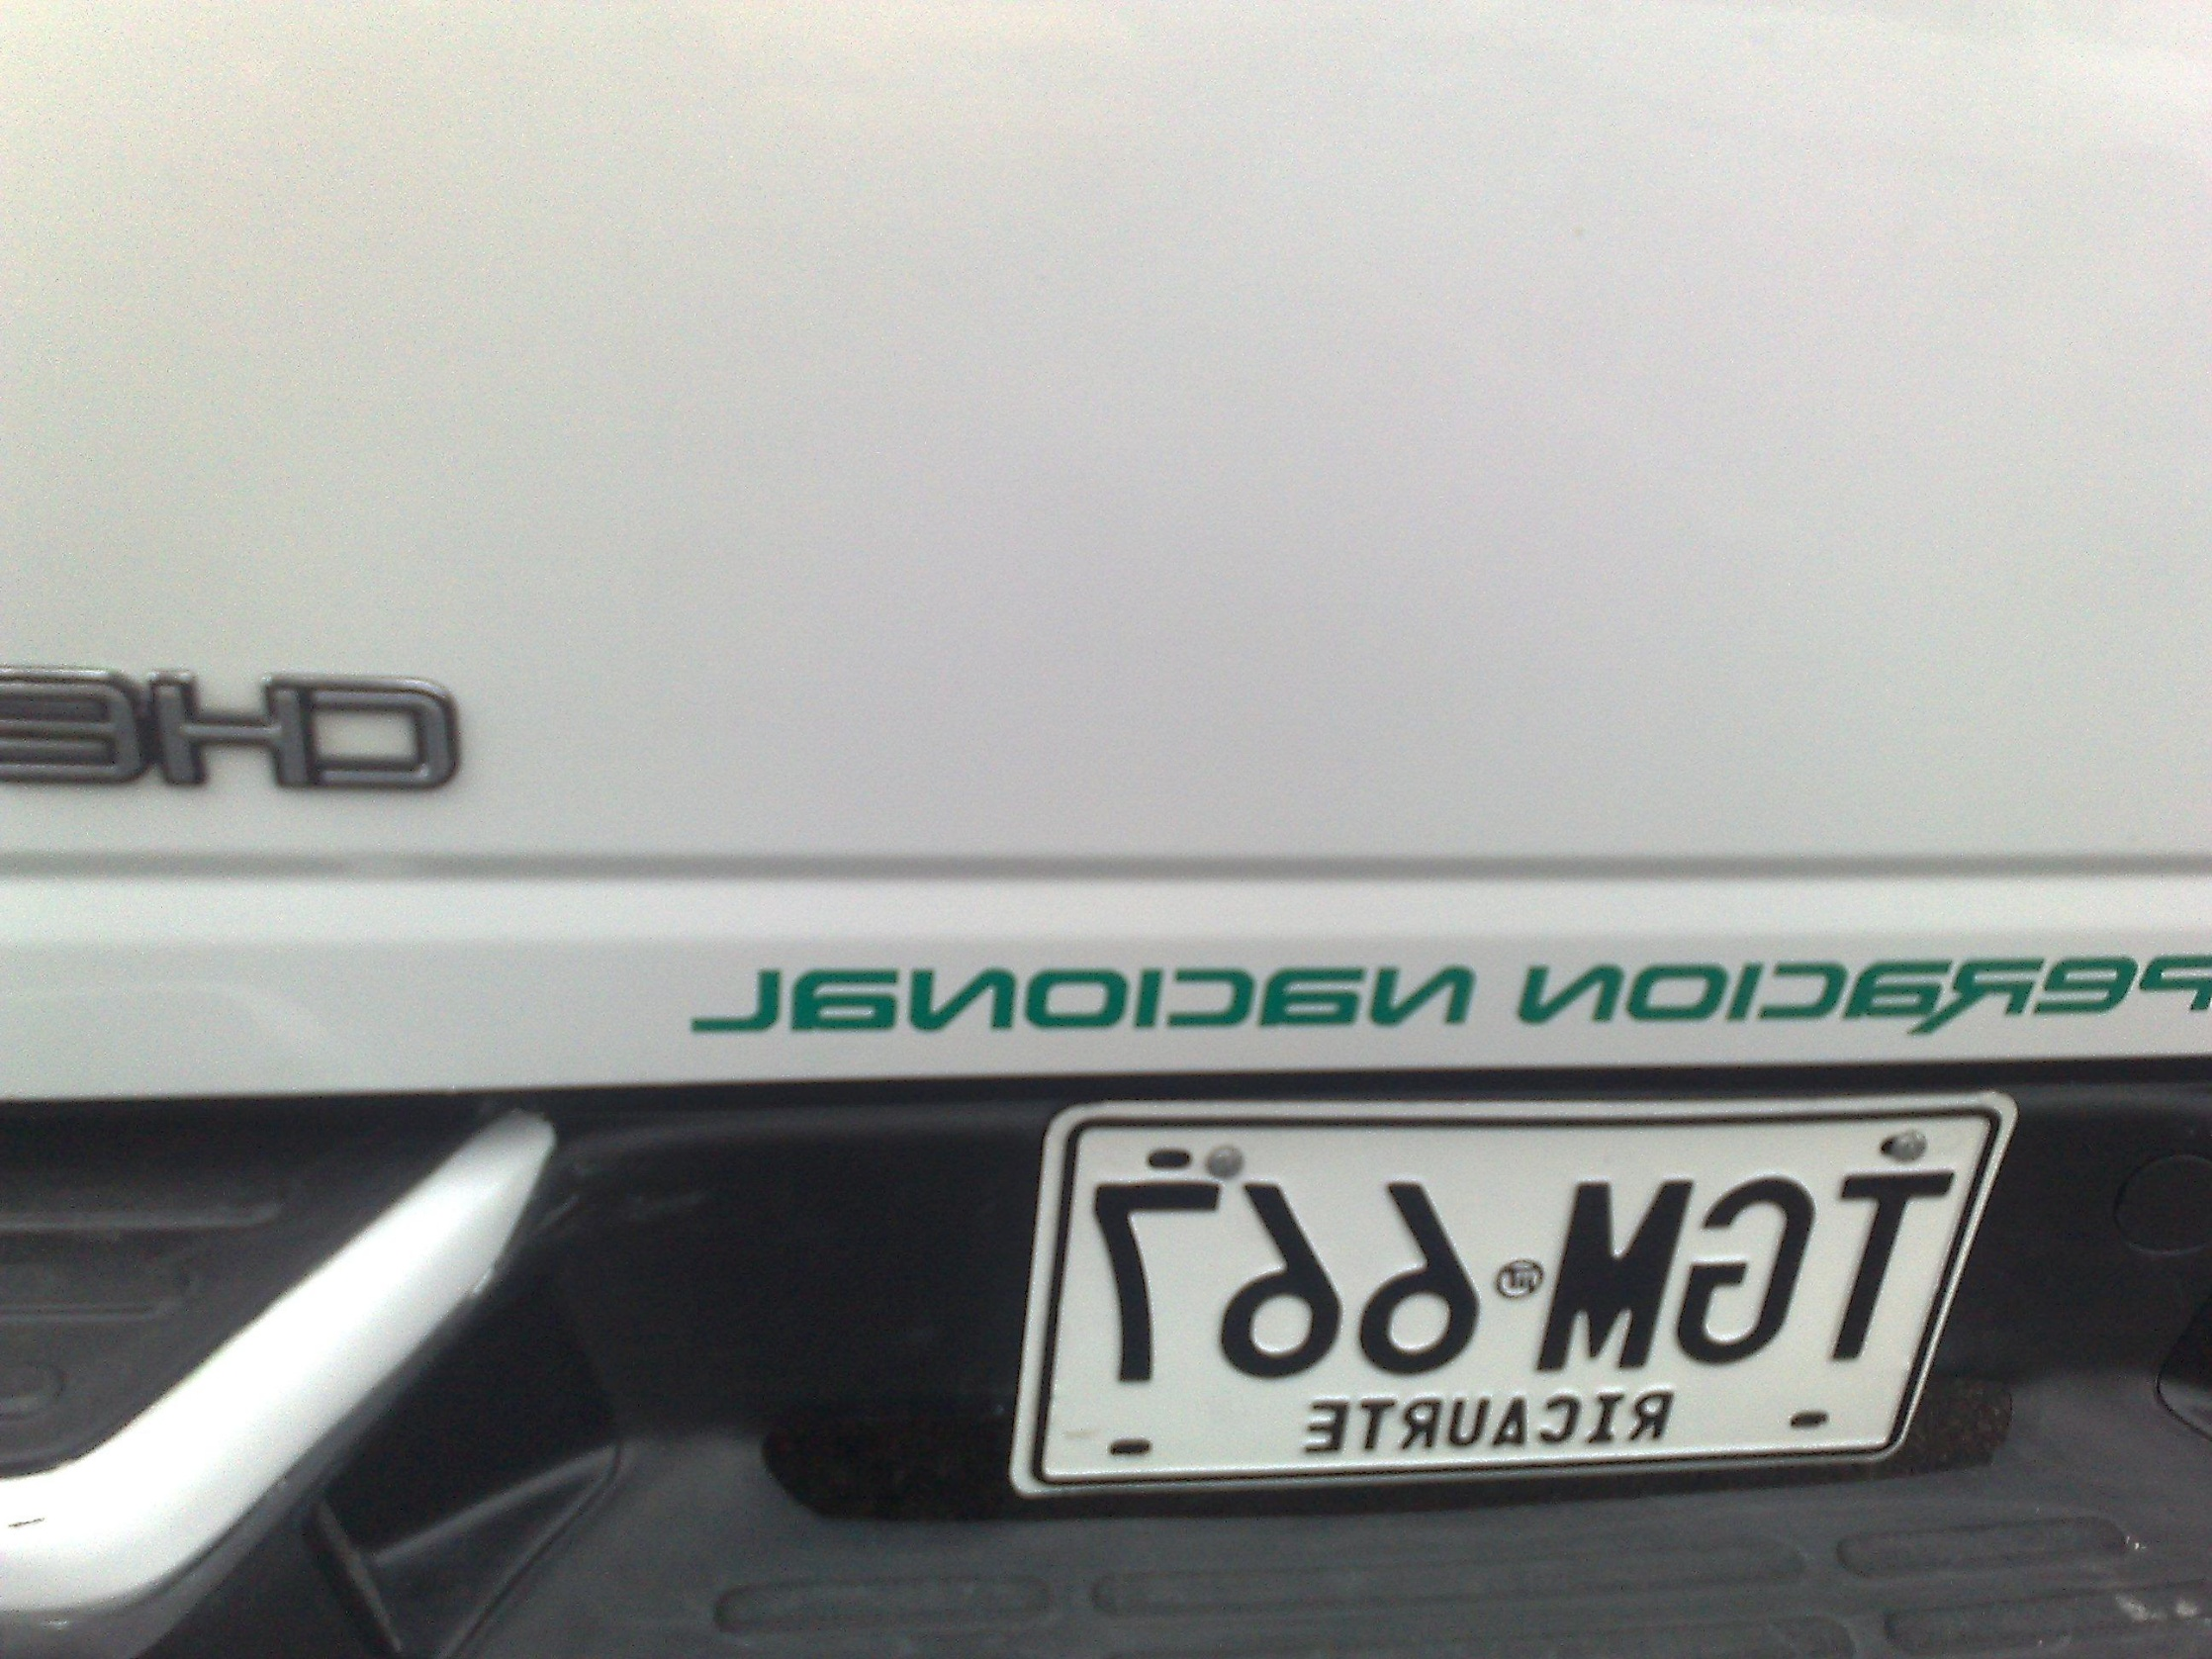placas: (1004, 1083, 2023, 1502)
